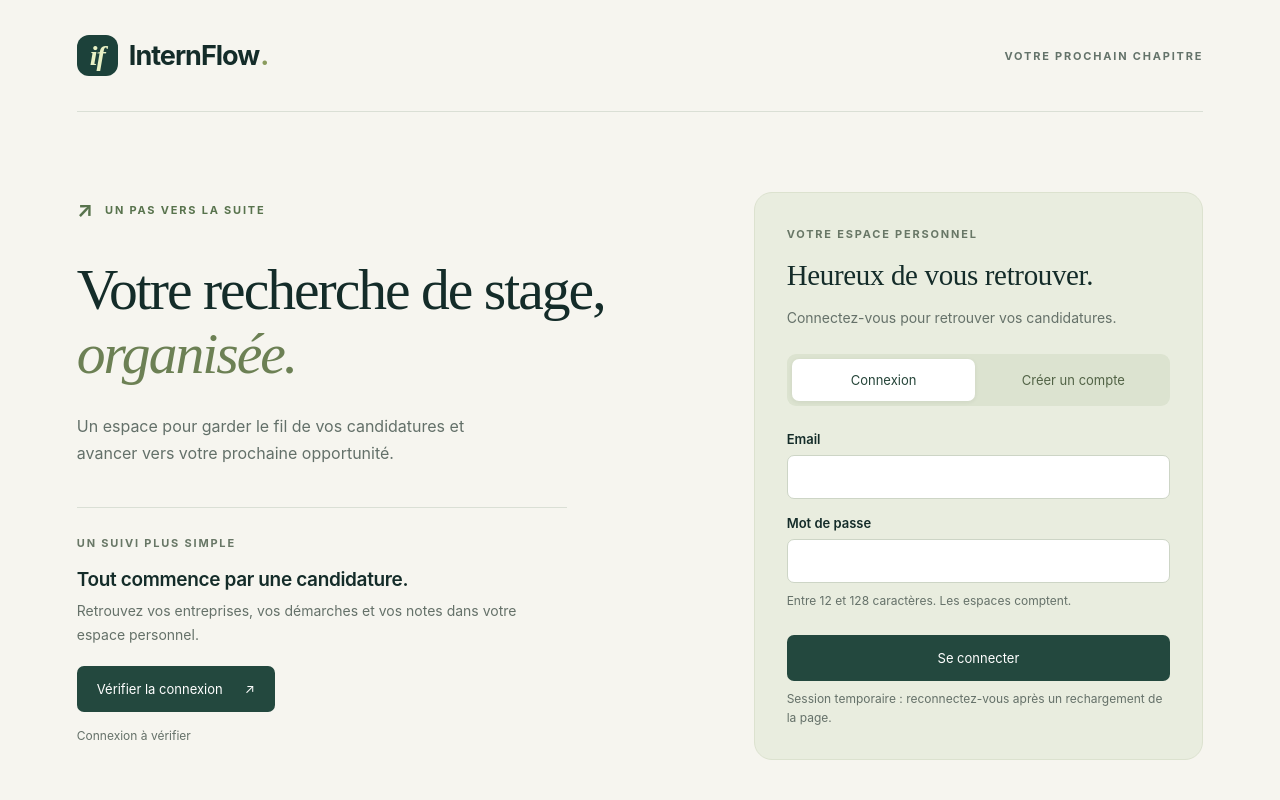
Scenario: register normalizes email, uses the JWT and keeps it out of browser storage
The image size is (1280, 800).
Click the button "Créer un compte".
click(1073, 380)  # box [981, 360, 1165, 402]
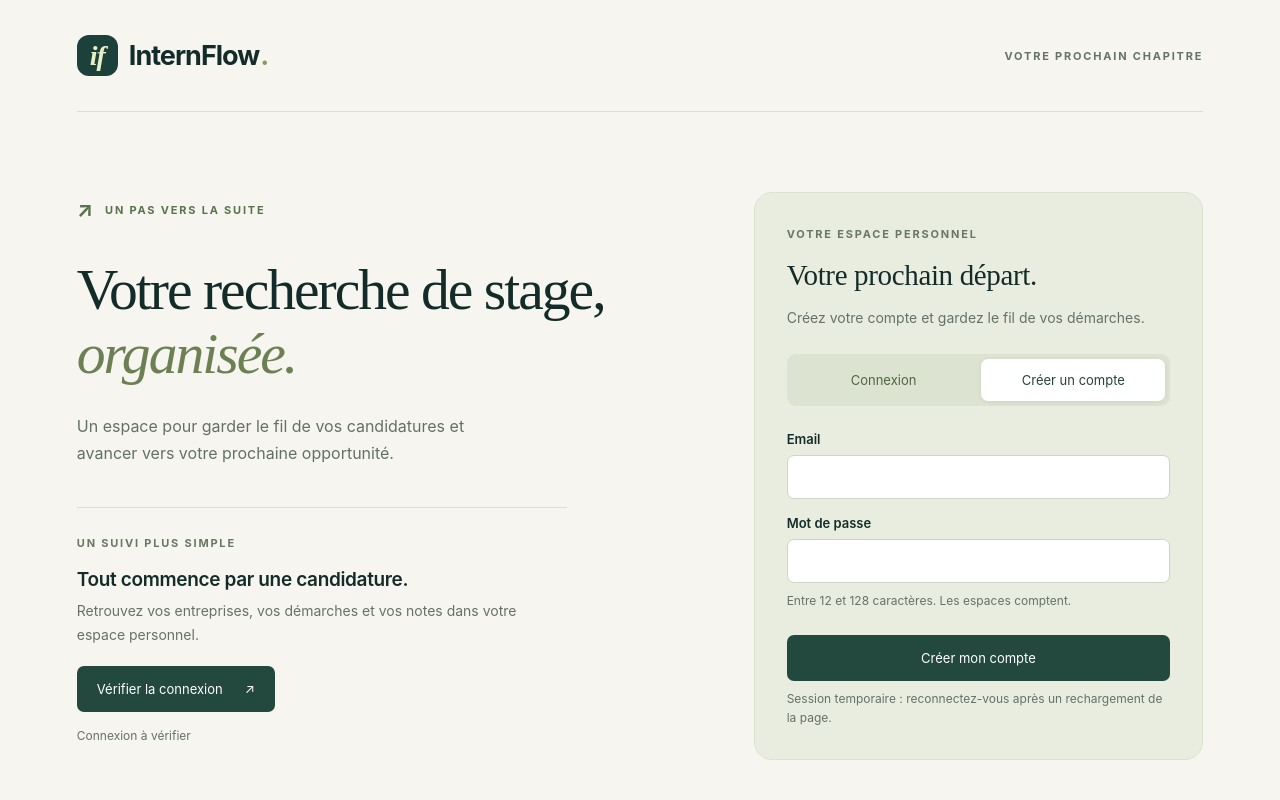
Type " Candidate@Example.COM " into the field labelled "Email".
click(978, 478); type(" Candidate@Example.COM ")  # box [787, 456, 1170, 500]
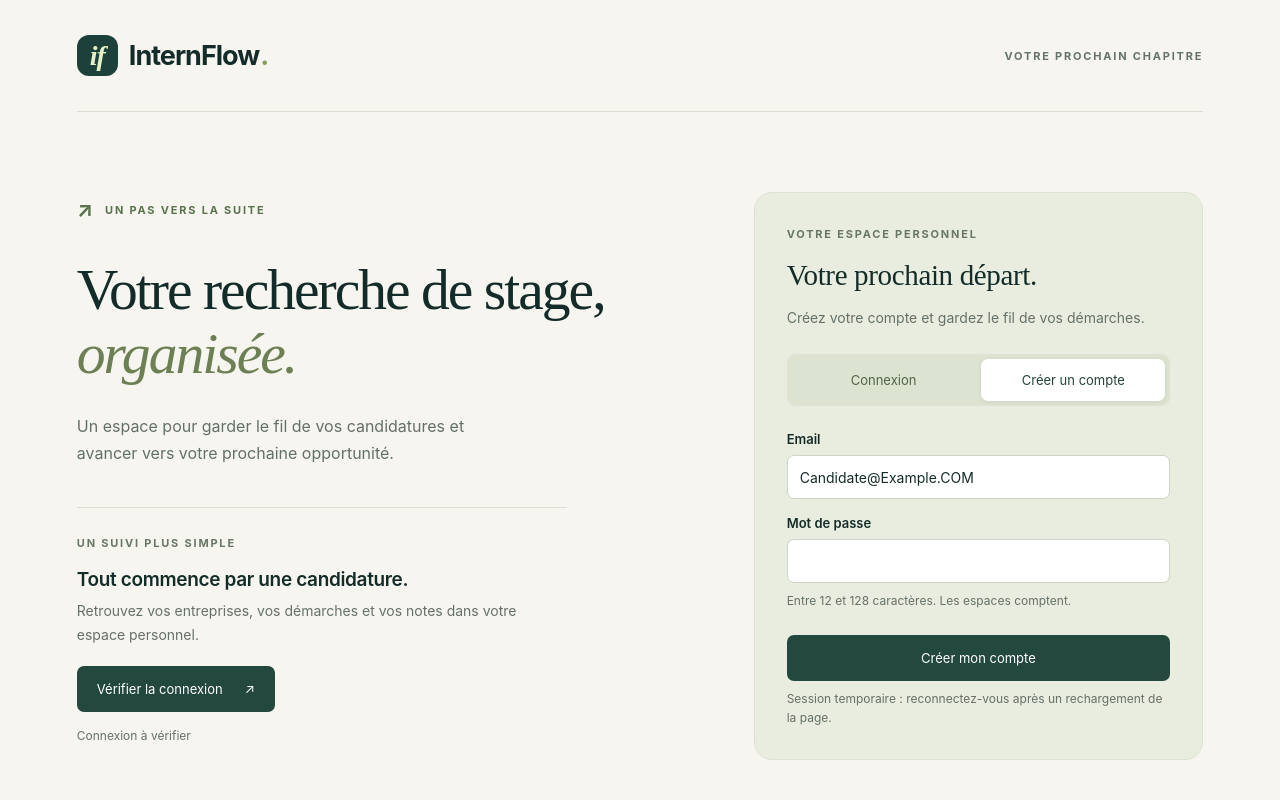
Type "Correct password 123!" into the password field labelled "Mot de passe".
click(978, 562); type("Correct password 123!")  # box [787, 540, 1170, 584]
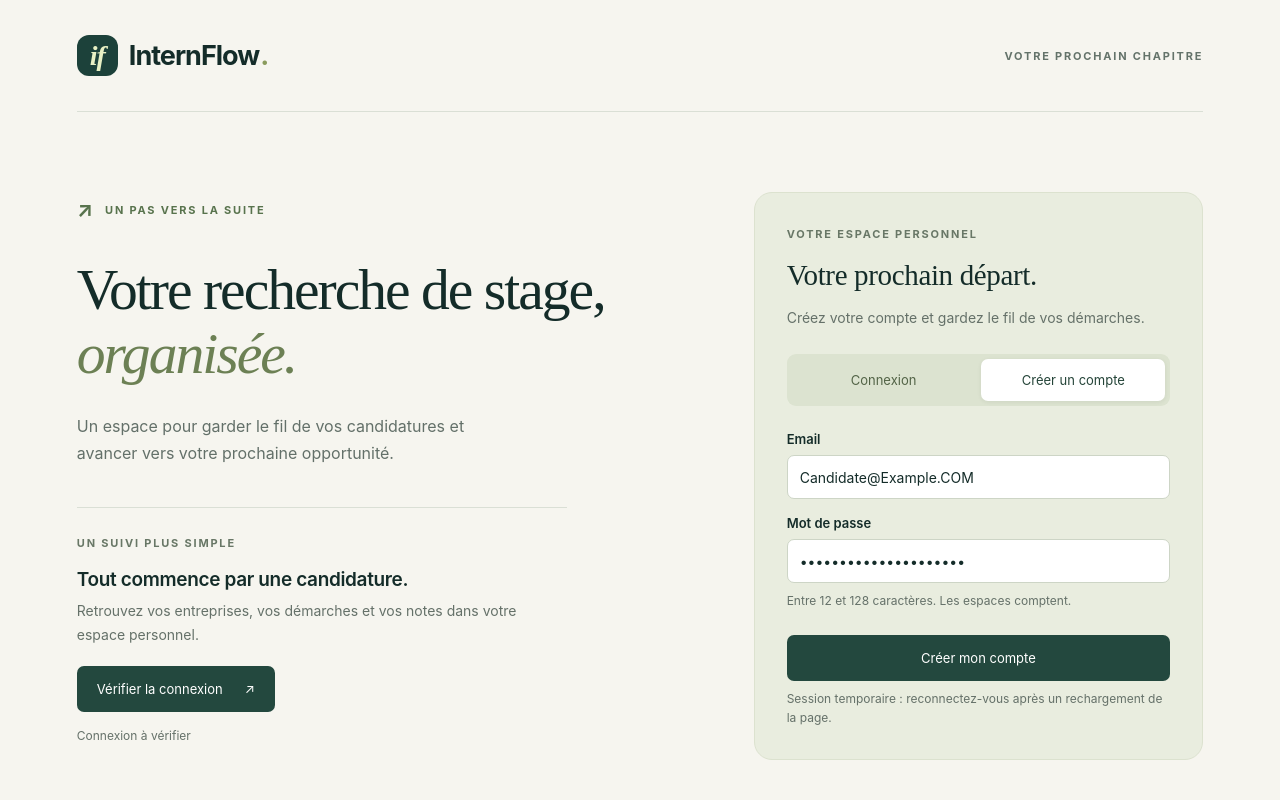
Click the button "Créer mon compte".
click(978, 658)  # box [787, 635, 1170, 681]
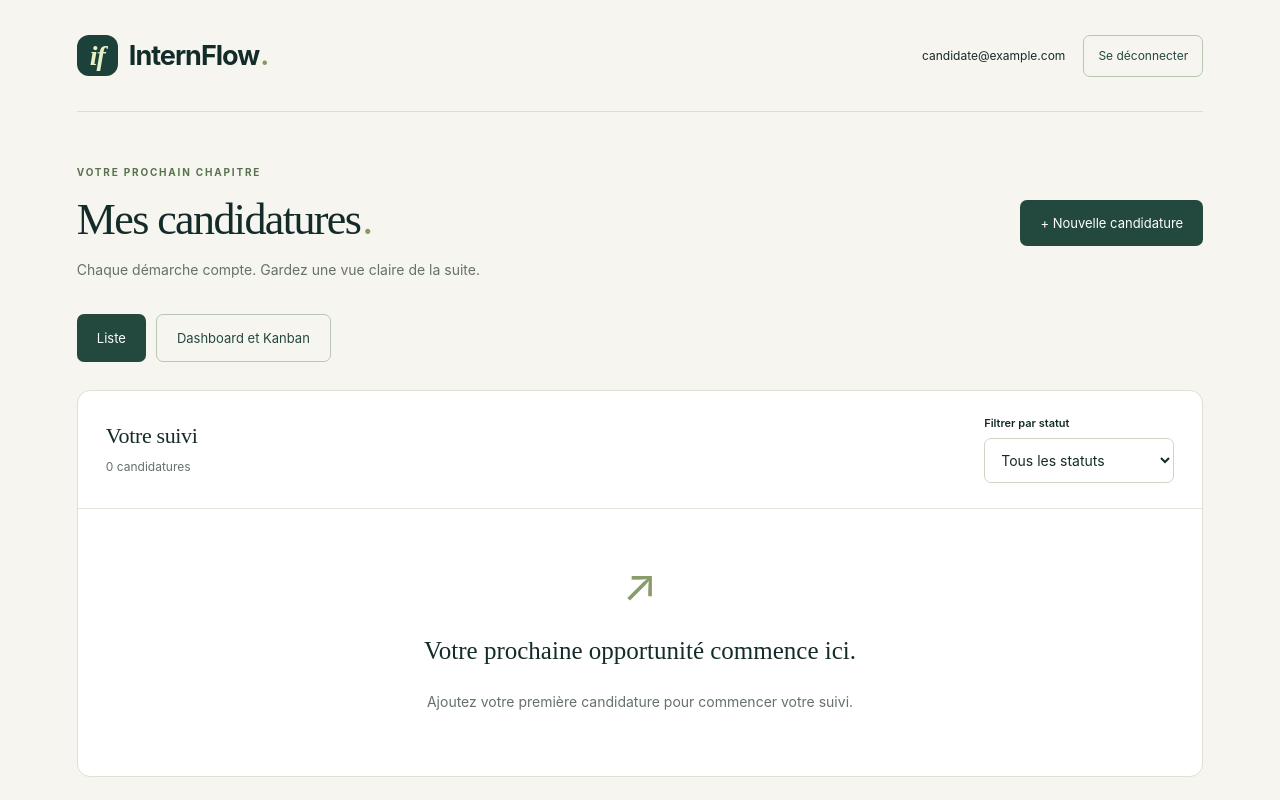
Check: the heading "Mes candidatures." is shown, box [77, 195, 372, 244]
Check: the heading "Votre prochaine opportunité commence ici." is shown, box [424, 637, 856, 664]
